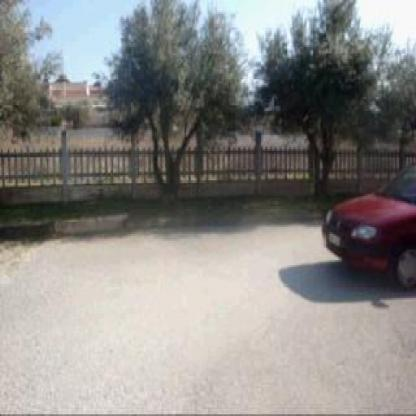other: (312, 171, 413, 274)
